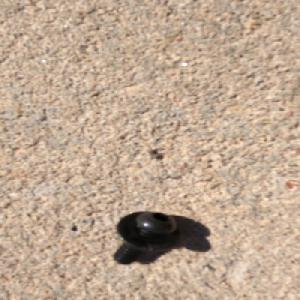BoltWasher: (111, 209, 184, 265)
